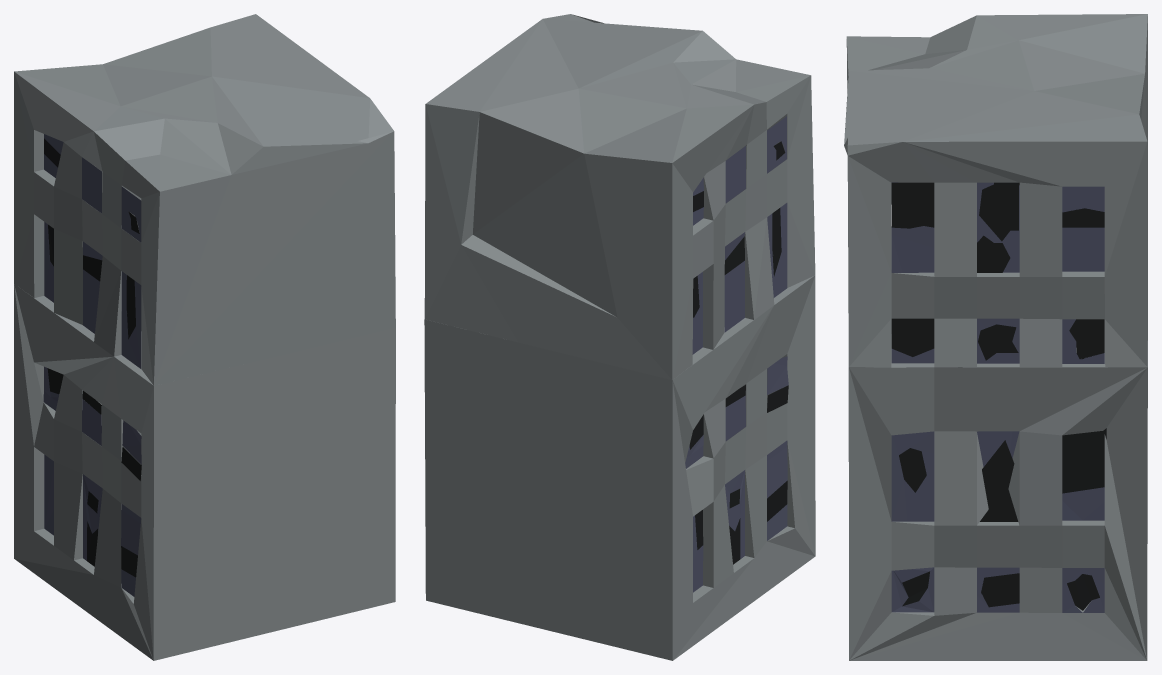
File: house2.fbx
The picture shows the model from 3 angles, left to right: view 1: azimuth 30°, elevation 25°; view 2: azimuth 150°, elevation 25°; view 3: azimuth 270°, elevation 25°; orthographic projection. The views are drawn at different scales.
Parts seen in each view (by area): view 1: Cube; view 2: Cube; view 3: Cube.
Boxes of the visible parts, x1,y1,x2,y2 form: Cube: [14, 14, 395, 660]; Cube: [424, 14, 815, 660]; Cube: [844, 14, 1147, 660].
Size of the model in its own units: 397 by 762 by 403.
